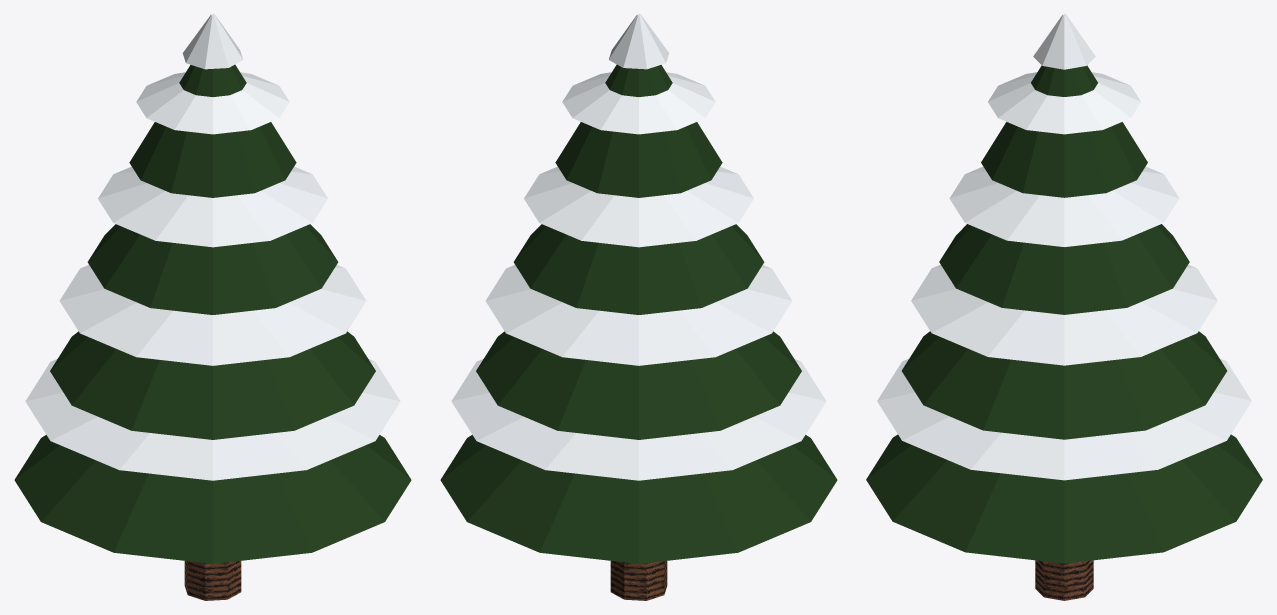
File: pino_nevado.glb
3 renders of one model, left to right at view 1: azimuth 30°, elevation 25°; view 2: azimuth 150°, elevation 25°; view 3: azimuth 270°, elevation 25°, orthographic.
Parts seen in each view (by area): view 1: Cone, Cone.002, Cone.001, Cone.003, Cone.004, Cone.005, Cone.006, Cone.007, Cylinder, Cone.008; view 2: Cone, Cone.002, Cone.001, Cone.003, Cone.004, Cone.005, Cone.006, Cone.007, Cylinder, Cone.008; view 3: Cone, Cone.002, Cone.001, Cone.003, Cone.004, Cone.005, Cone.006, Cone.007, Cylinder, Cone.008.
Boxes of the visible parts, x1,y1,x2,y2 form: Cone: (14,435,411,563); Cone.002: (50,331,375,439); Cone.001: (25,359,400,480); Cone.003: (59,265,366,365); Cone.004: (87,224,338,314); Cone.005: (98,166,327,247); Cone.006: (129,64,296,197); Cone.007: (136,72,289,134); Cylinder: (184,561,241,600); Cone.008: (182,14,242,69); Cone: (440,435,837,563); Cone.002: (476,331,801,439); Cone.001: (451,359,826,480); Cone.003: (485,265,792,365); Cone.004: (513,224,764,314); Cone.005: (524,166,753,247); Cone.006: (555,64,722,197); Cone.007: (562,72,715,134); Cylinder: (610,561,667,600); Cone.008: (609,14,669,69); Cone: (866,434,1262,563); Cone.002: (901,331,1227,439); Cone.001: (877,359,1251,480); Cone.003: (911,264,1217,365); Cone.004: (939,224,1189,314); Cone.005: (949,166,1179,246); Cone.006: (981,65,1147,197); Cone.007: (988,72,1140,134); Cylinder: (1035,560,1093,600); Cone.008: (1033,14,1095,69).
Size of the model in its own units: 1.9 by 3.03 by 1.9.
3 materials, 1 textured.
